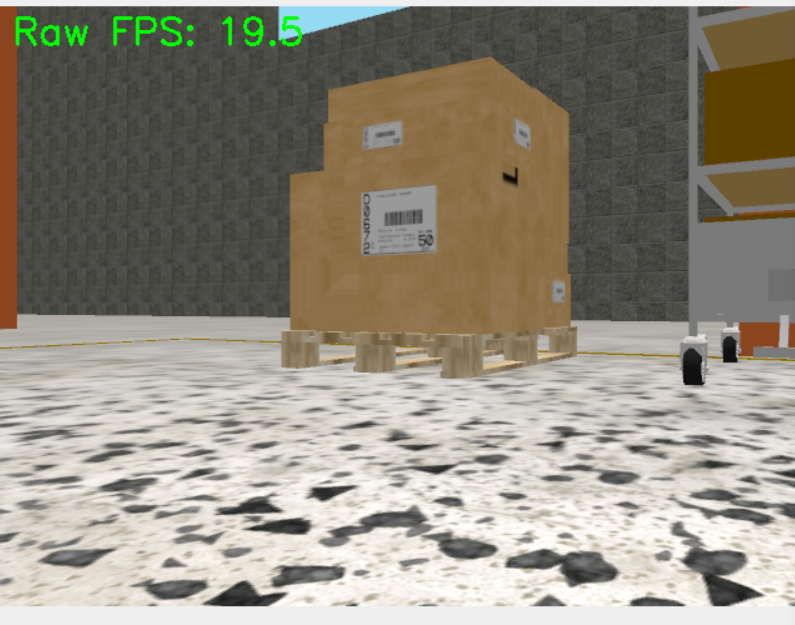barcode: (361, 185, 437, 256), (362, 120, 402, 149)
